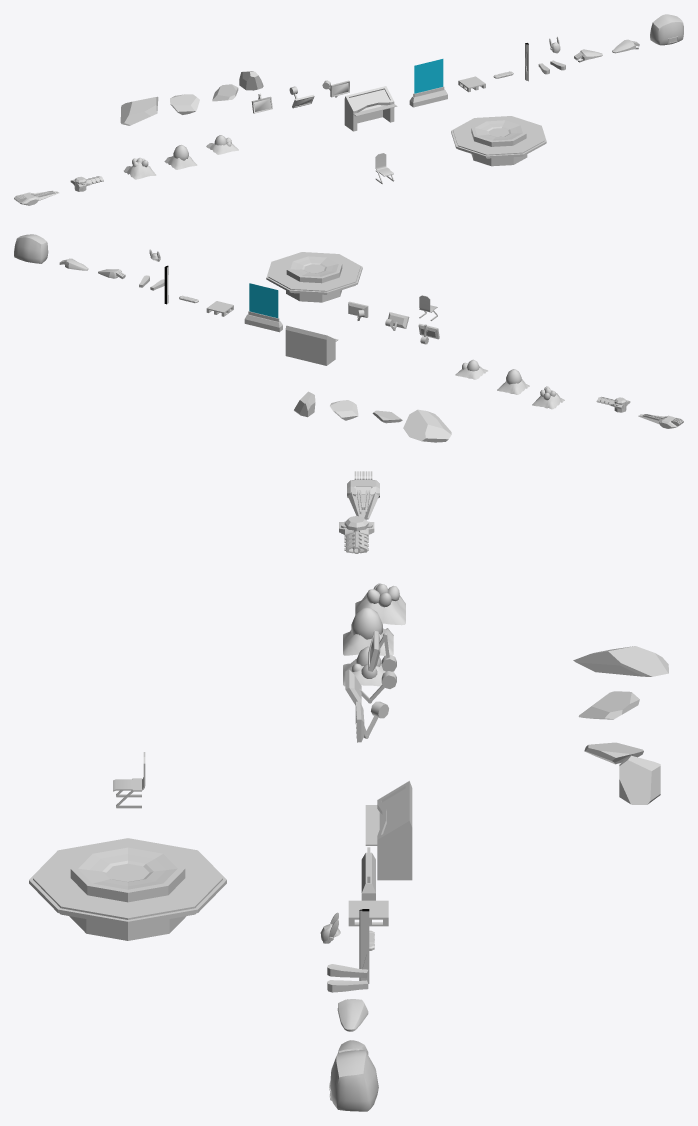
Rendered from Pack3.fbx.
3 renders of one model, top to bottom at view 1: azimuth 30°, elevation 25°; view 2: azimuth 150°, elevation 25°; view 3: azimuth 270°, elevation 25°, orthographic. The views are drawn at different scales.
Visible parts, largest first — view 1: Cylinder.001, Tableau de commande, PanneauHolo, henrycorps, Rock4, Rock3, Eggs2, Eggs3, Rock1, CanonPiecedetach, Eggs1, Rock2 (+2 smaller); view 2: Cylinder.001, Tableau de commande, PanneauHolo, Rock4, henrycorps, Eggs2, Rock2, Eggs3, CanonPiecedetach, Rock1, Eggs1; view 3: Cylinder.001, Tableau de commande, henrycorps, Rock4, Rock1, Eggs2, Eggs3, CanonPiecedetach, Rock3, Railgunpiecedetach.
Boxes of the visible parts, x1,y1,x2,y2 form: Cylinder.001: (451,116,546,166); Tableau de commande: (344,86,397,131); PanneauHolo: (409,59,447,107); henrycorps: (650,14,683,45); Rock4: (120,96,158,125); Rock3: (170,94,199,114); Eggs2: (164,145,197,169); Eggs3: (124,158,156,179); Rock1: (239,71,263,90); CanonPiecedetach: (14,190,59,205); Eggs1: (206,135,238,154); Rock2: (212,84,238,101); Cylinder.001: (266,252,362,302); Tableau de commande: (285,325,338,365); PanneauHolo: (244,283,282,332); Rock4: (403,409,451,442); henrycorps: (14,234,48,263); Eggs2: (497,369,529,394); Rock2: (330,400,358,420); Eggs3: (532,386,564,409); CanonPiecedetach: (638,414,683,428); Rock1: (294,391,315,417); Eggs1: (455,359,487,379); Cylinder.001: (29,838,226,940); Tableau de commande: (365,781,412,880); henrycorps: (329,1050,378,1111); Rock4: (573,646,668,676); Rock1: (619,755,660,804); Eggs2: (343,607,393,655); Eggs3: (355,583,405,625); CanonPiecedetach: (347,471,379,519); Rock3: (578,691,639,719); Railgunpiecedetach: (339,516,374,553).
Bounding box in the file's own units: 3817 × 322 × 1595.
